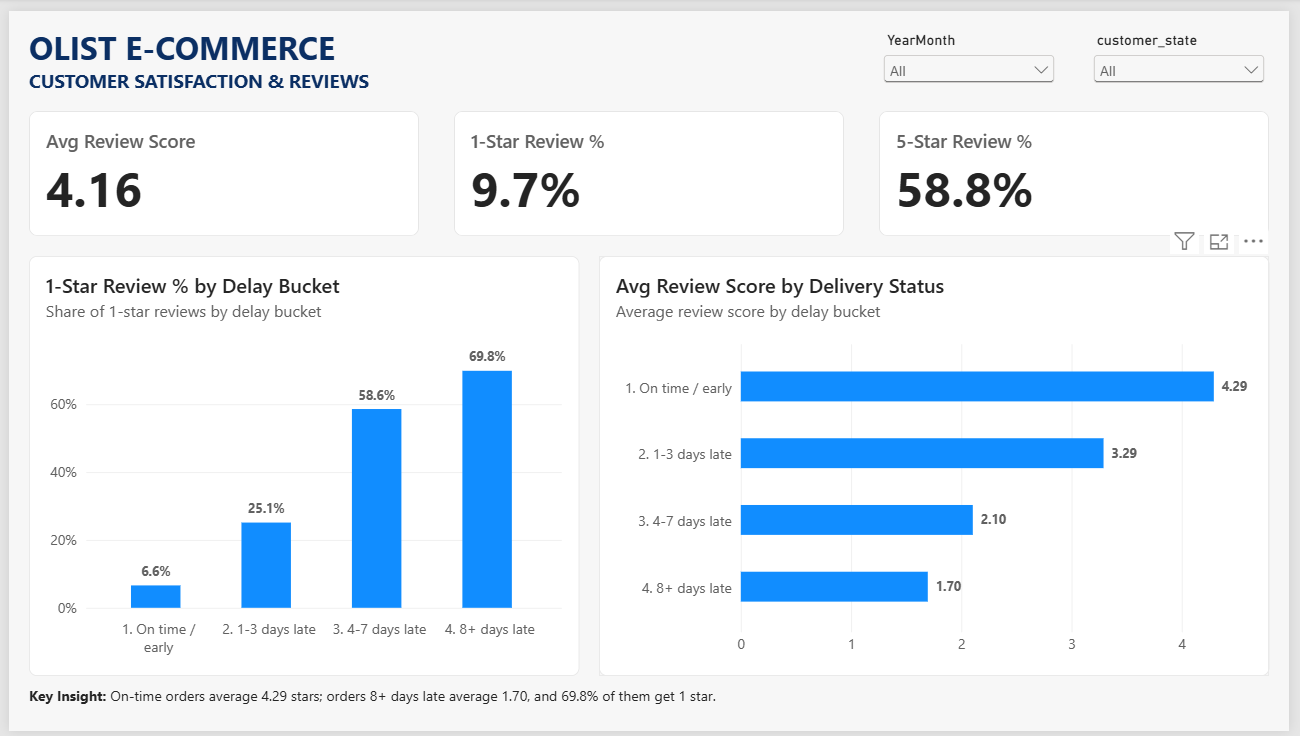

What the dashboard file says about the page in this screenshot:
{"tool":"powerbi","page":{"name":"Customer Satisfaction","canvas":[1280,720],"ordinal":2},"visuals":[{"type":"textbox","box":[20,15,600,70],"z":0},{"type":"slicer","fields":{"Values":["DateTable.YearMonth"]},"box":[870,20,180,60],"z":1},{"type":"slicer","fields":{"Values":["Customers.customer_state"]},"box":[1080,20,180,60],"z":2},{"type":"cardVisual","fields":{"Data":["Avg(clean_orders.review_score)"]},"box":[20,100,390,125],"z":3},{"type":"cardVisual","fields":{"Data":["clean_orders.1-Star Review %"]},"box":[445,100,390,125],"z":4},{"type":"cardVisual","fields":{"Data":["clean_orders.5-Star Review %"]},"box":[870,100,390,125],"z":5},{"type":"clusteredColumnChart","title":"1-Star Review % by Delay Bucket","fields":{"Category":["clean_orders.Delay Bucket"],"Y":["clean_orders.1-Star Review %"]},"box":[20,245,550,420],"z":6},{"type":"clusteredBarChart","title":"Avg Review Score by Delivery Status","fields":{"Category":["clean_orders.Delay Bucket"],"Y":["Avg(clean_orders.review_score)"]},"box":[590,245,670,420],"z":7},{"type":"textbox","box":[20,675,1240,40],"z":8}]}

Visuals, with their boxes in screenshot pixels (x1, y1, x2, y2), scaled from the page's 1280x720 canvas onto the 1300x736 screenshot:
textbox: locate(20, 15, 630, 87)
slicer - DateTable.YearMonth: locate(884, 20, 1066, 82)
slicer - Customers.customer_state: locate(1097, 20, 1280, 82)
cardVisual - Avg(clean_orders.review_score): locate(20, 102, 416, 230)
cardVisual - clean_orders.1-Star Review %: locate(452, 102, 848, 230)
cardVisual - clean_orders.5-Star Review %: locate(884, 102, 1280, 230)
"1-Star Review % by Delay Bucket" clusteredColumnChart: locate(20, 250, 579, 680)
"Avg Review Score by Delivery Status" clusteredBarChart: locate(599, 250, 1280, 680)
textbox: locate(20, 690, 1280, 731)
